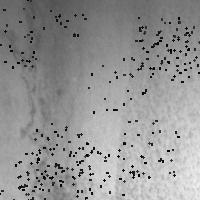pitted_surface: (5, 1, 88, 199), (118, 1, 199, 200), (131, 21, 191, 81), (138, 17, 198, 75), (117, 120, 177, 178), (34, 123, 93, 181), (76, 142, 132, 200), (88, 58, 146, 111), (15, 149, 73, 200), (0, 7, 35, 66), (27, 0, 84, 35), (0, 172, 54, 200)
